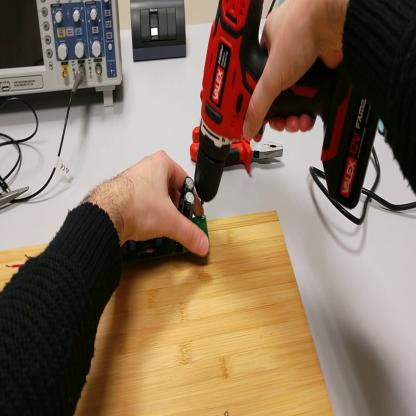electric screwdriver: (196, 2, 380, 213)
hand: (245, 4, 339, 139), (111, 151, 211, 263)
high voltage board: (7, 176, 212, 269)
oscilloscope: (2, 2, 123, 118)
oscilloscope probe tip: (2, 187, 31, 209)
pliers: (189, 131, 286, 177)
working area: (1, 211, 336, 416)
